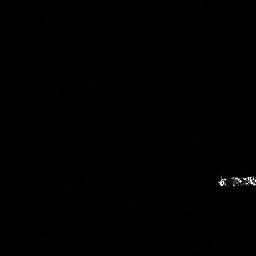ship: (217, 174, 256, 187)
